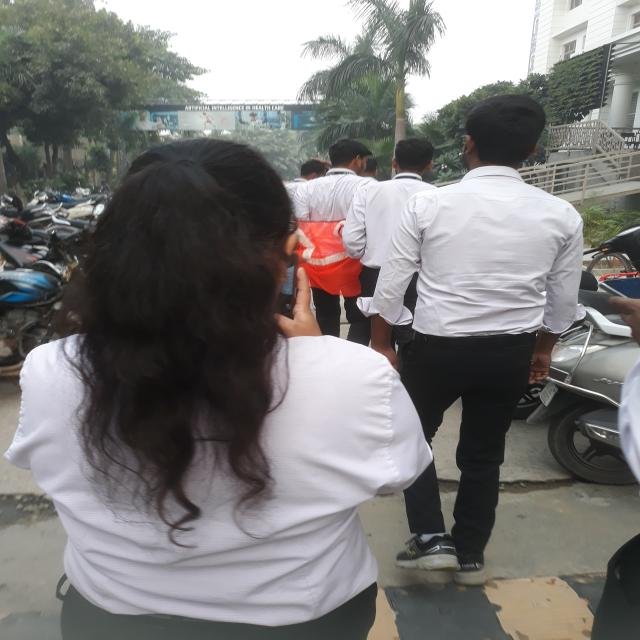unsafe: (19, 133, 430, 640), (381, 92, 590, 576)
